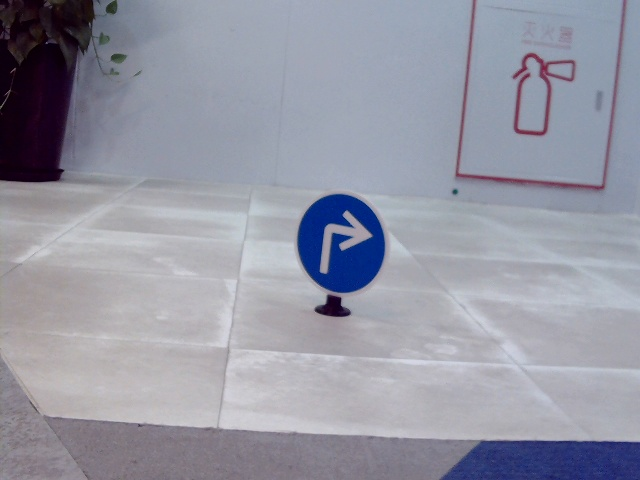turn_right: (321, 209, 369, 276)
